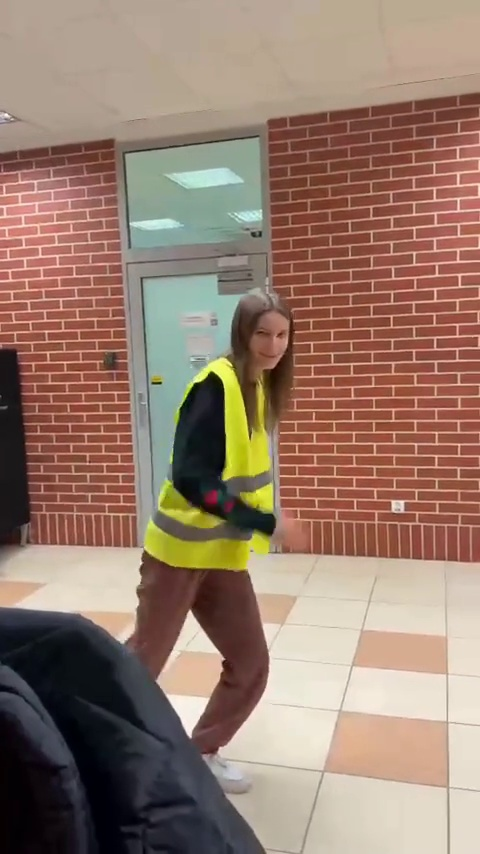vest: (141, 283, 299, 788)
